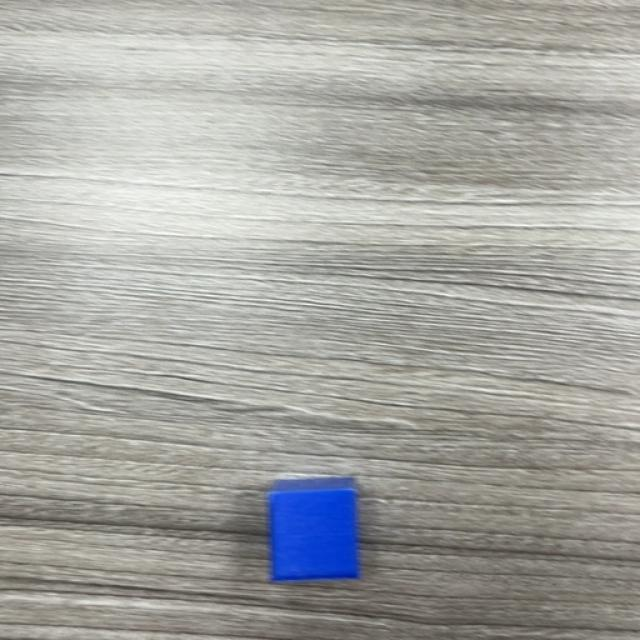Azul: (265, 479, 362, 584)
